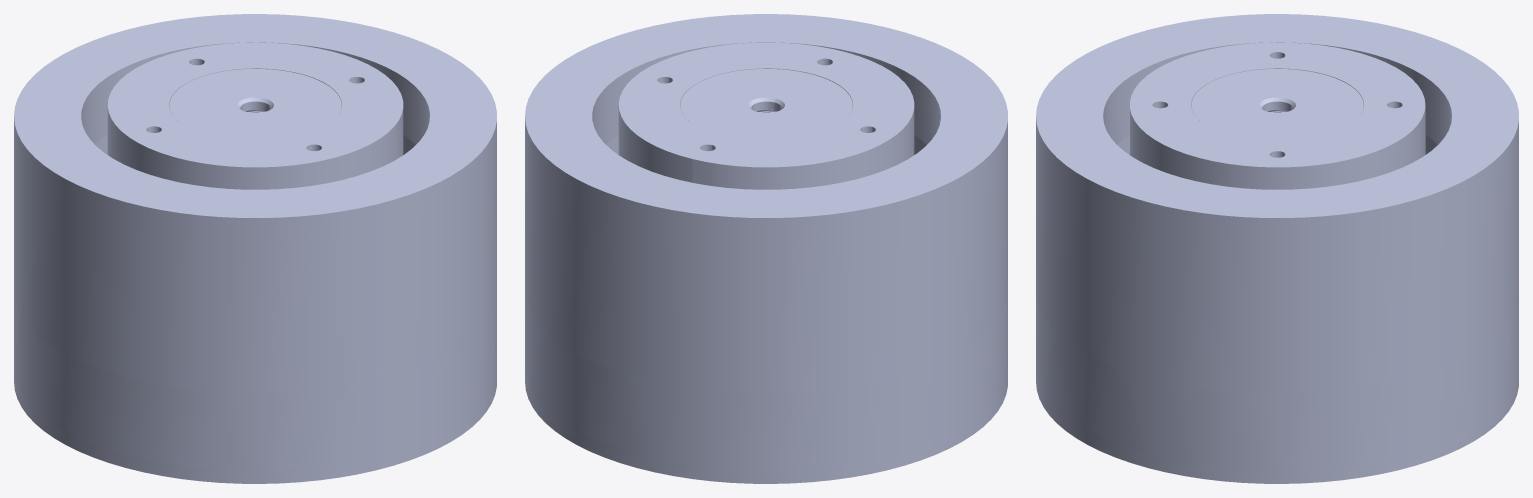
Rendered from thruster_concept.glb.
3 renders of one model, left to right at view 1: azimuth 30°, elevation 25°; view 2: azimuth 150°, elevation 25°; view 3: azimuth 270°, elevation 25°, orthographic.
Visible parts, largest first — view 1: empty_4, empty_2, empty_6, empty_3, empty_15, empty_9; view 2: empty_4, empty_2, empty_6, empty_3, empty_15, empty_9; view 3: empty_4, empty_2, empty_6, empty_3, empty_15, empty_9.
Part boxes in pixels (x1,y1,x2,y2): empty_4: (14, 14, 496, 393); empty_2: (14, 293, 496, 469); empty_6: (107, 42, 403, 189); empty_3: (69, 37, 442, 194); empty_15: (169, 69, 341, 141); empty_9: (14, 370, 496, 483); empty_4: (525, 14, 1007, 393); empty_2: (525, 293, 1007, 469); empty_6: (618, 42, 914, 189); empty_3: (580, 37, 953, 194); empty_15: (680, 69, 852, 141); empty_9: (525, 370, 1007, 483); empty_4: (1036, 14, 1518, 393); empty_2: (1036, 293, 1518, 469); empty_6: (1130, 42, 1425, 189); empty_3: (1091, 37, 1464, 194); empty_15: (1191, 69, 1363, 141); empty_9: (1036, 370, 1518, 483).
Size of the model in its own units: 99.98 by 63.24 by 99.96.
